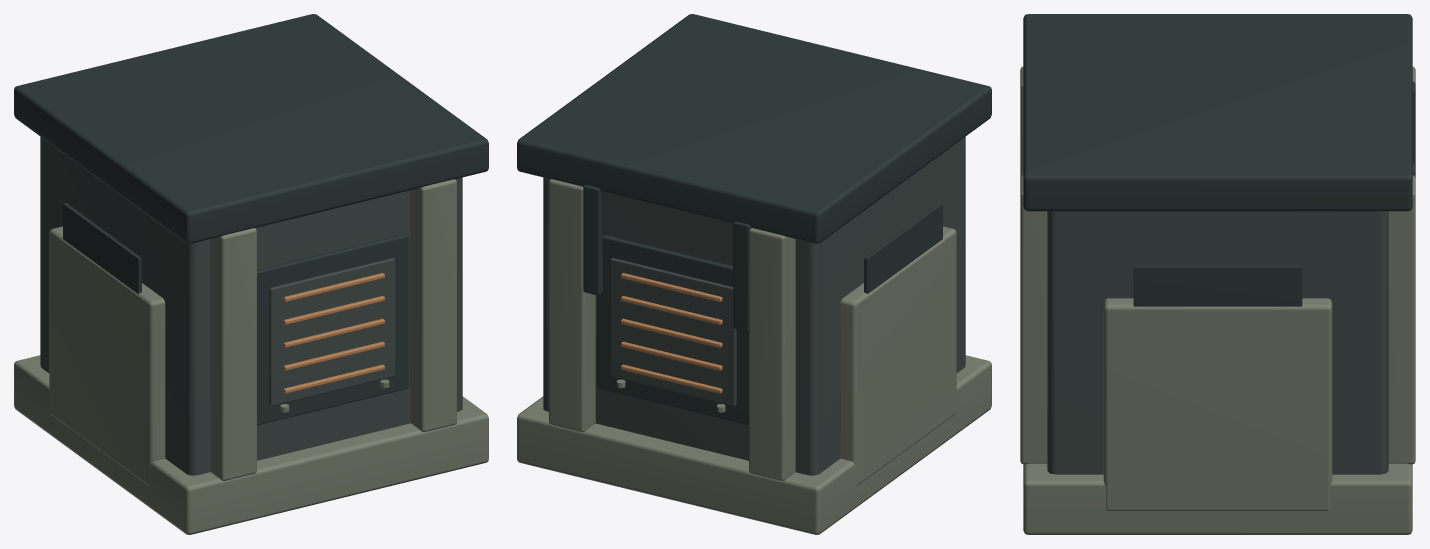
File: relay-0.glb
3 renders of one model, left to right at view 1: azimuth 30°, elevation 25°; view 2: azimuth 150°, elevation 25°; view 3: azimuth 270°, elevation 25°, orthographic. The views are drawn at different scales.
Parts seen in each view (by area): view 1: relay_2, relay_1, relay_0, relay_3; view 2: relay_2, relay_1, relay_0, relay_3; view 3: relay_2, relay_1, relay_0.
Part boxes in pixels (x1,y1,x2,y2): relay_2: [14, 14, 488, 425]; relay_1: [14, 179, 488, 534]; relay_0: [40, 136, 462, 475]; relay_3: [283, 273, 384, 393]; relay_2: [517, 14, 991, 425]; relay_1: [517, 179, 991, 534]; relay_0: [543, 136, 965, 475]; relay_3: [621, 273, 722, 393]; relay_2: [1023, 14, 1415, 306]; relay_1: [1020, 66, 1415, 534]; relay_0: [1047, 211, 1388, 474].
Bounding box in the file's own units: 0.975 × 0.99 × 0.985.
